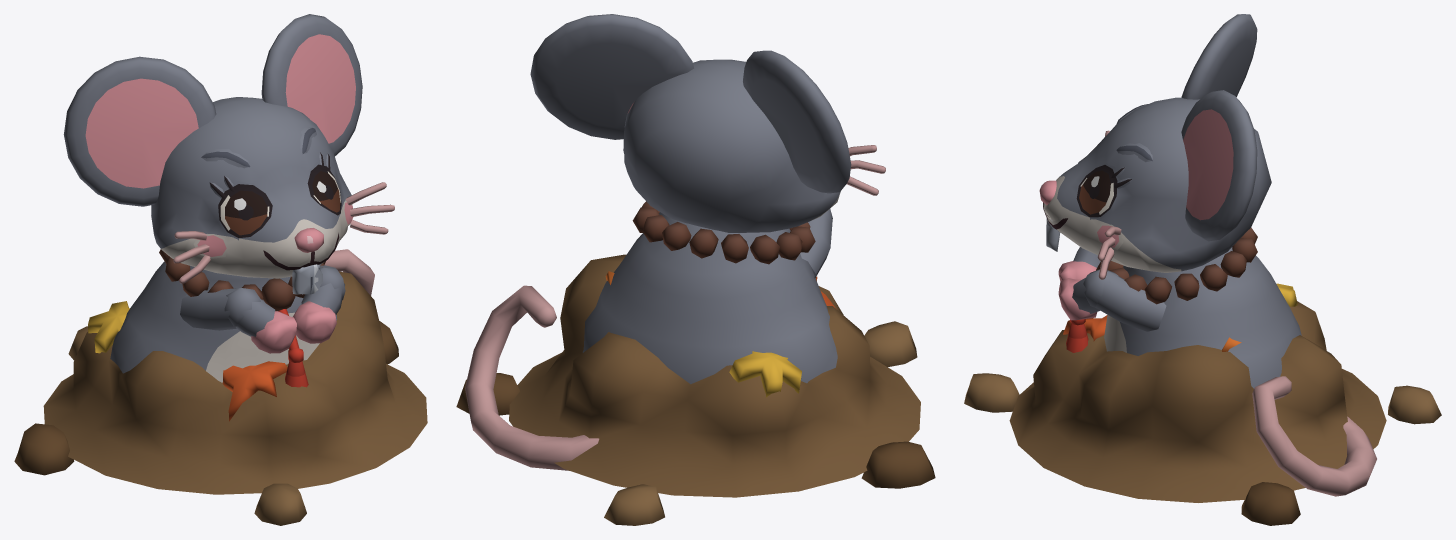
Rendered from tesso.glb.
3 views of the same model, side by side, from view 1: azimuth 30°, elevation 25°; view 2: azimuth 150°, elevation 25°; view 3: azimuth 270°, elevation 25° (orthographic). The views are drawn at different scales.
Parts seen in each view (by area): view 1: head, mound, body, paws; view 2: mound, head, body; view 3: mound, head, body, paws.
Boxes of the visible parts, bbox=[...] form: head: bbox=[63, 14, 394, 294]; mound: bbox=[14, 271, 427, 525]; body: bbox=[110, 249, 374, 387]; paws: bbox=[224, 267, 345, 353]; mound: bbox=[456, 254, 935, 525]; head: bbox=[530, 14, 885, 232]; body: bbox=[465, 201, 837, 470]; mound: bbox=[964, 283, 1441, 525]; head: bbox=[1039, 14, 1271, 279]; body: bbox=[1066, 227, 1376, 496]; paws: bbox=[1058, 247, 1118, 320].
Size of the model in its own units: 0.9855 by 0.8681 by 1.
